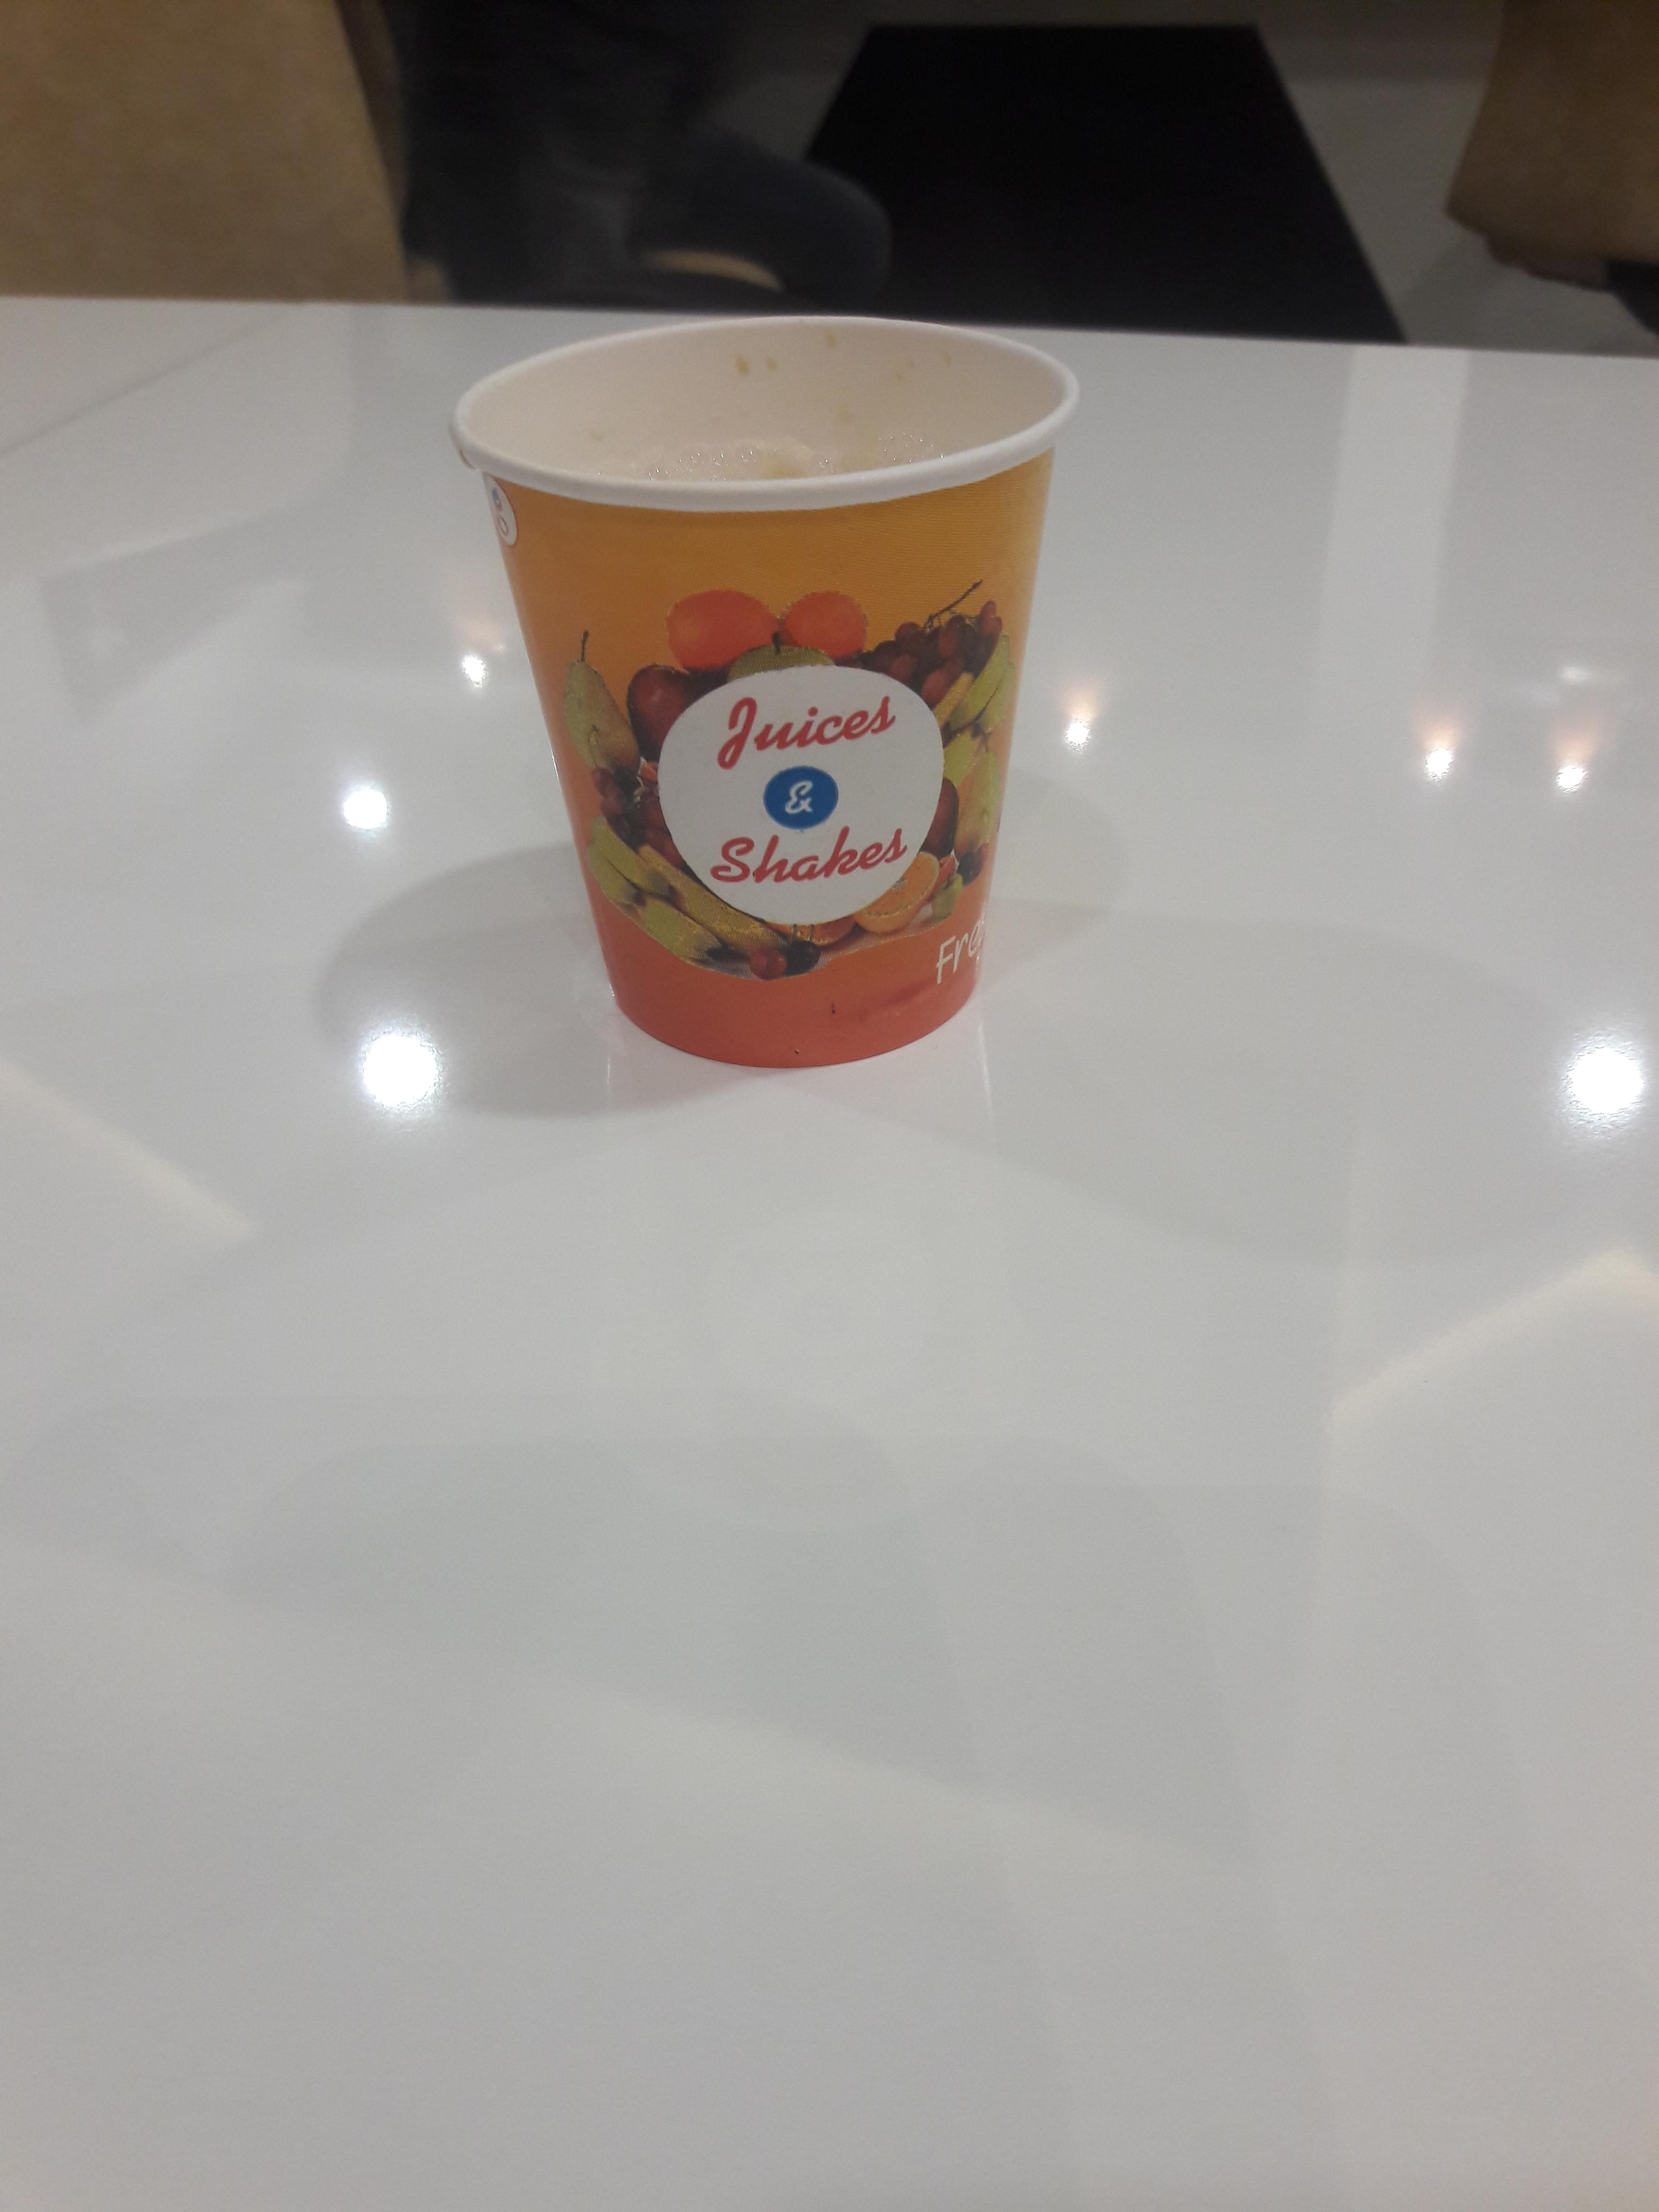trash: (437, 300, 1103, 1078)
